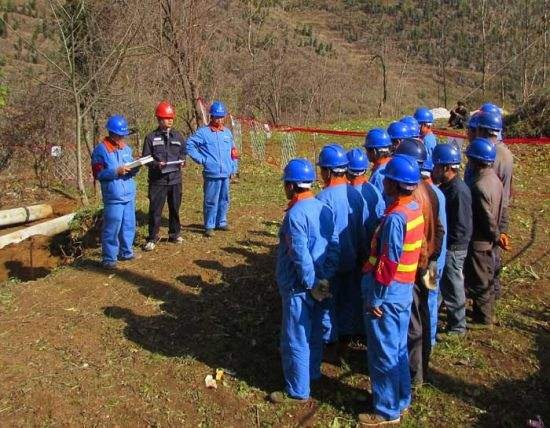blue: (379, 155, 419, 199), (280, 158, 315, 200), (429, 142, 460, 182), (316, 142, 347, 181), (466, 109, 502, 141), (465, 137, 496, 171), (363, 128, 390, 162), (343, 147, 369, 182), (104, 114, 129, 145), (411, 106, 432, 134), (386, 120, 408, 146), (208, 100, 226, 127)
red: (151, 99, 177, 131)
